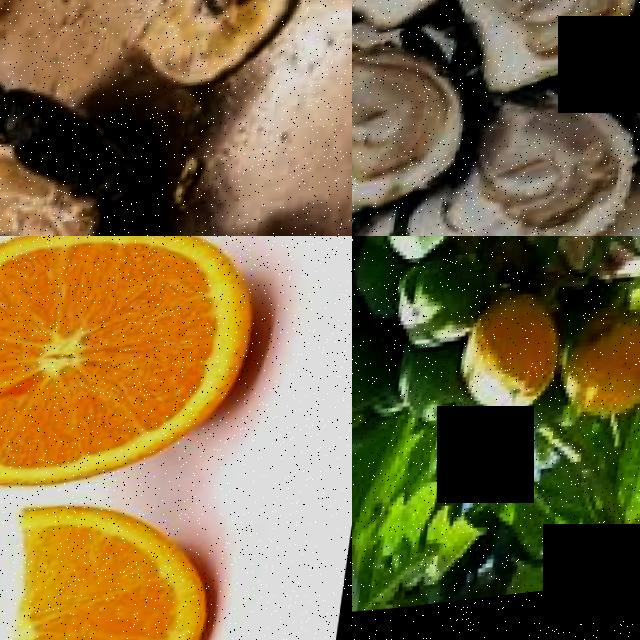orange: (0, 236, 278, 523), (0, 494, 235, 640)
oysters: (467, 90, 640, 236), (352, 40, 479, 227), (446, 0, 640, 108)
pawpaw: (463, 296, 573, 436), (554, 313, 640, 439), (391, 263, 492, 367), (377, 236, 475, 279)
